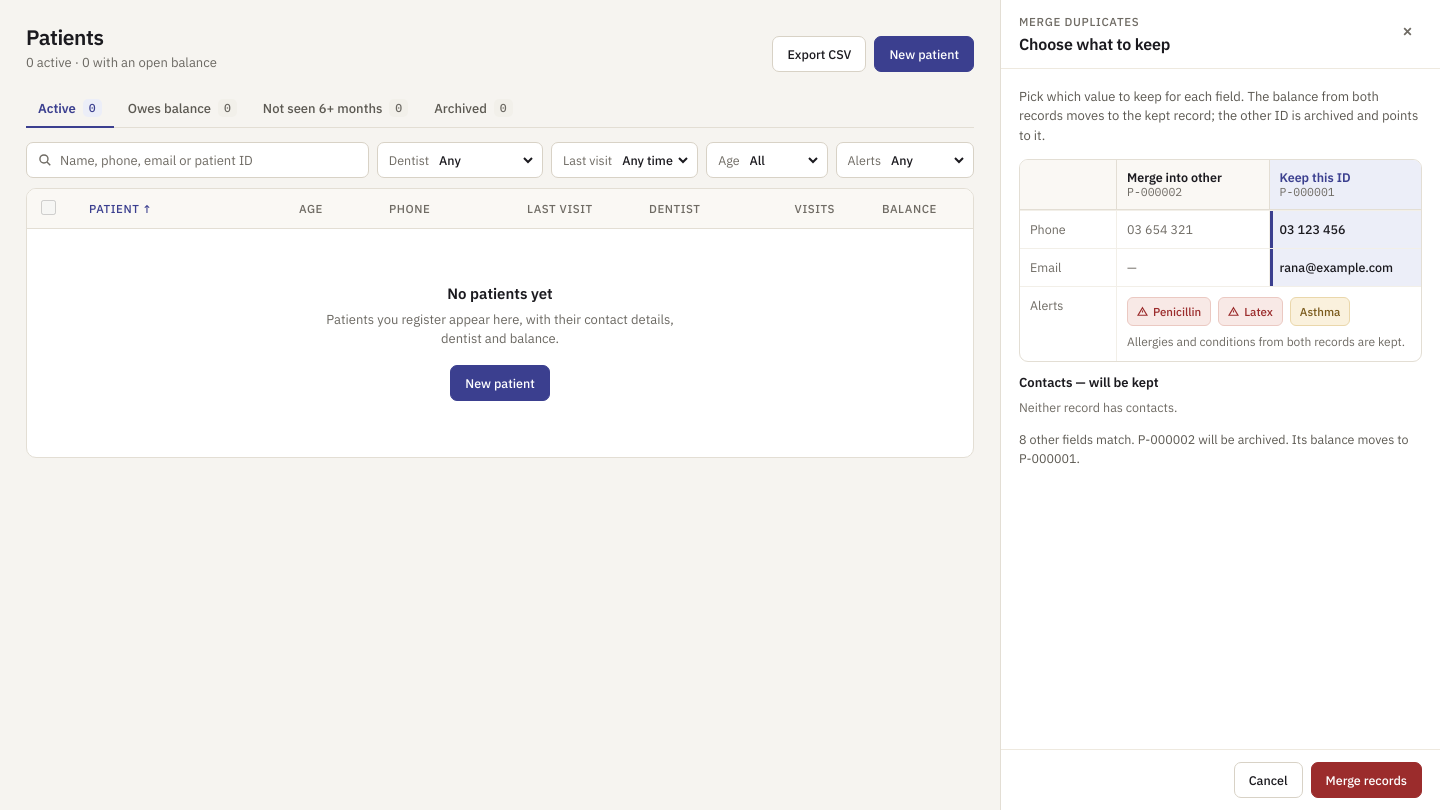
Test: MergePanel › sends the picked values, and needs a reason of at least 3 characters
Click the radio button named "Phone from P-000002: 03 654 321" at (1192,230), box [1116, 211, 1268, 248]
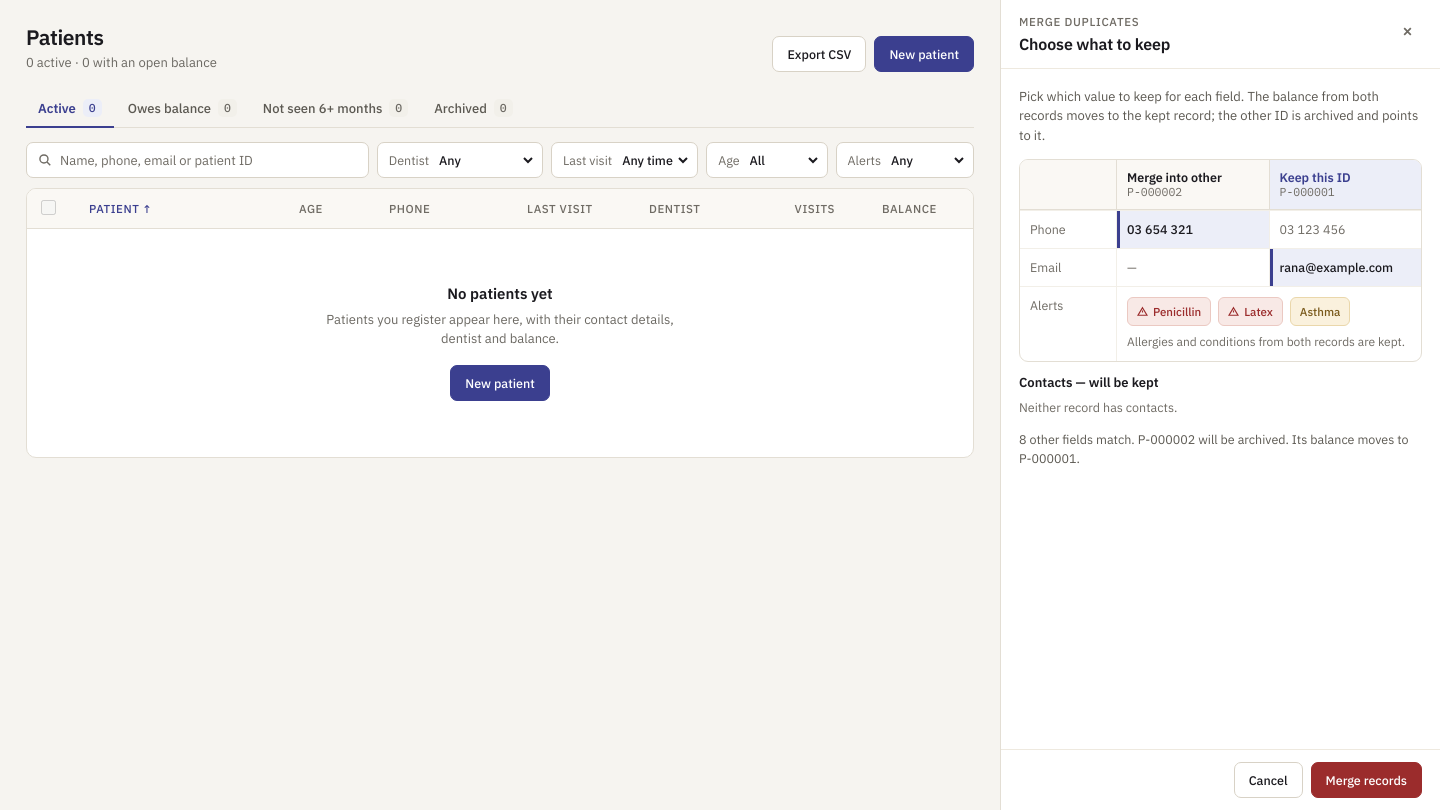
Expected: the radio button named "Phone from P-000002: 03 654 321" is checked, [1116, 211, 1268, 248]
Expected: the radio button named "Phone from P-000001: 03 123 456" is not checked, [1268, 211, 1421, 248]
Click the button "Merge records" at (1366,780), box [1310, 762, 1422, 798]
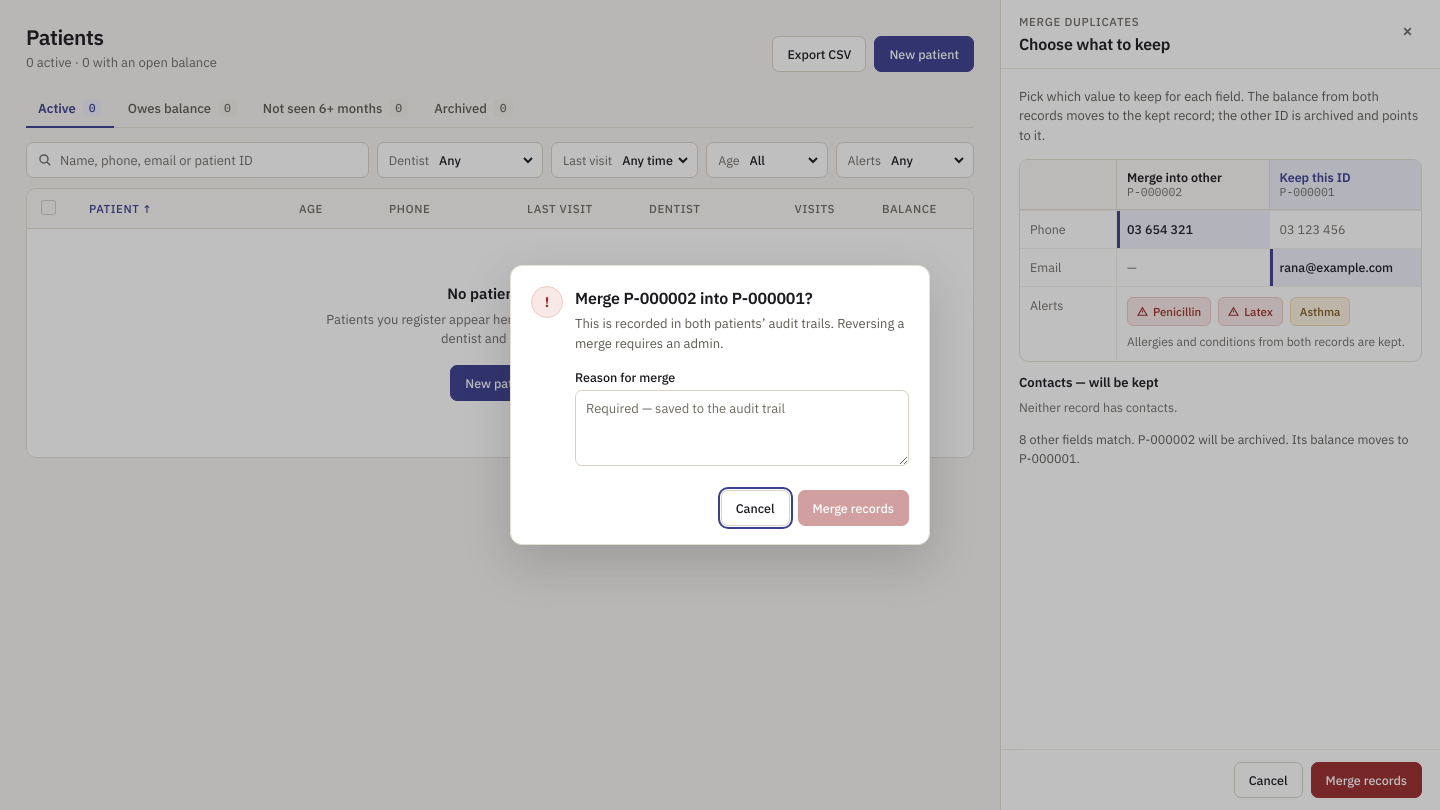
Expected: the heading "Merge P-000002 into P-000001?" is shown, [575, 288, 812, 308]
Type "ab" into the text box at (742,428), box [575, 390, 909, 466]
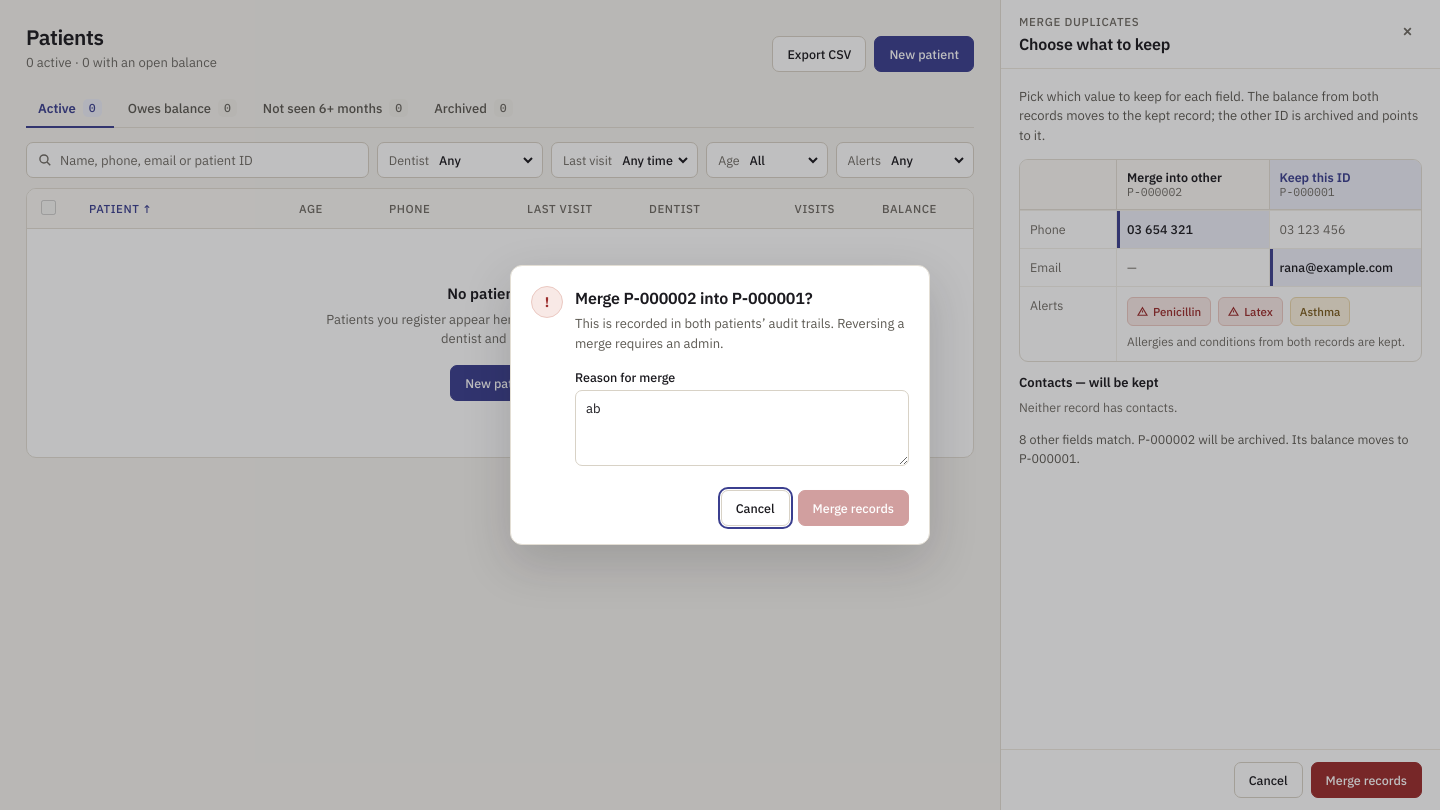
Expected: the button "Merge records" is disabled, [798, 490, 909, 526]
Replace the text in the text box with "Same person" at (742,428), box [575, 390, 909, 466]
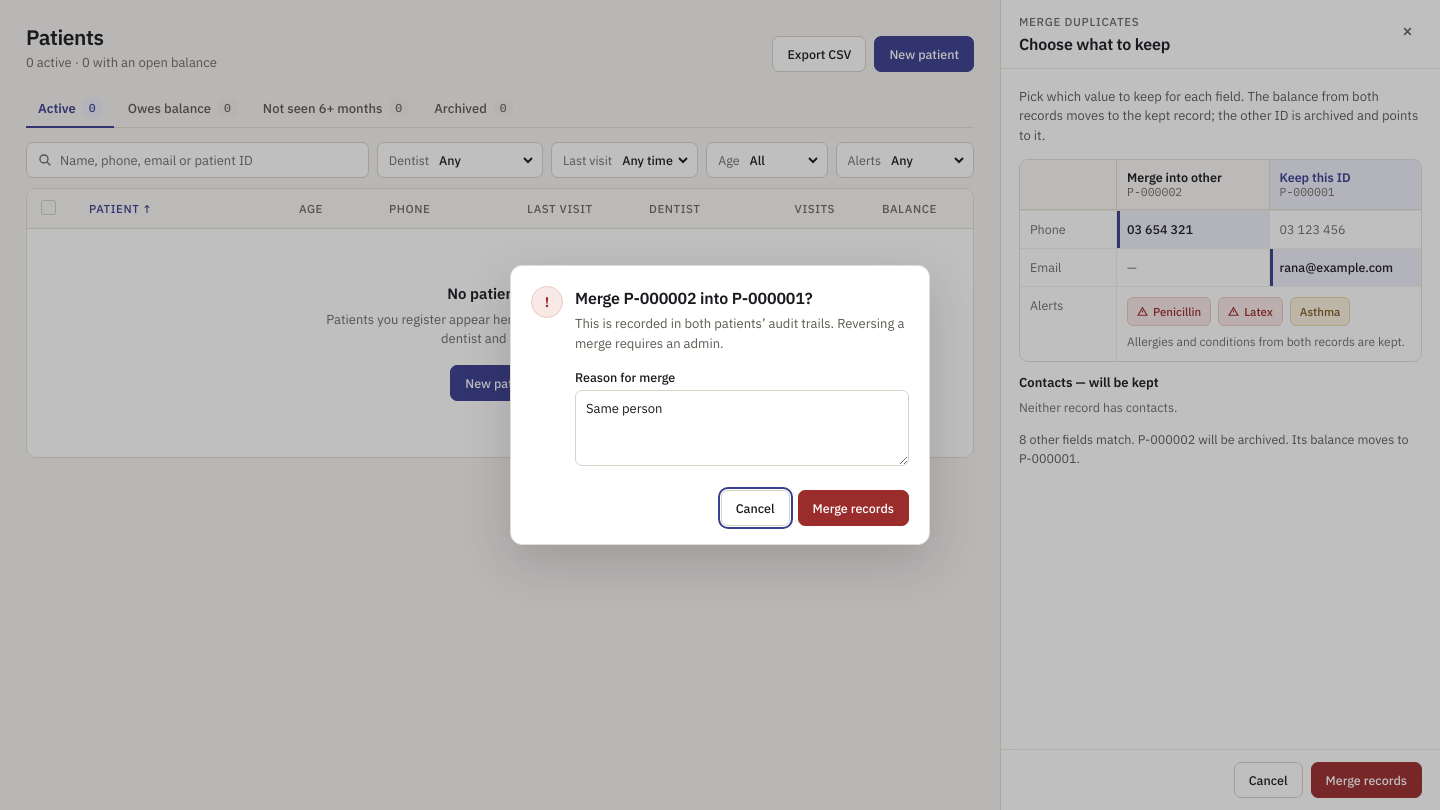
Expected: the button "Merge records" is enabled
Click the button "Merge records" at (853,508), box [798, 490, 909, 526]
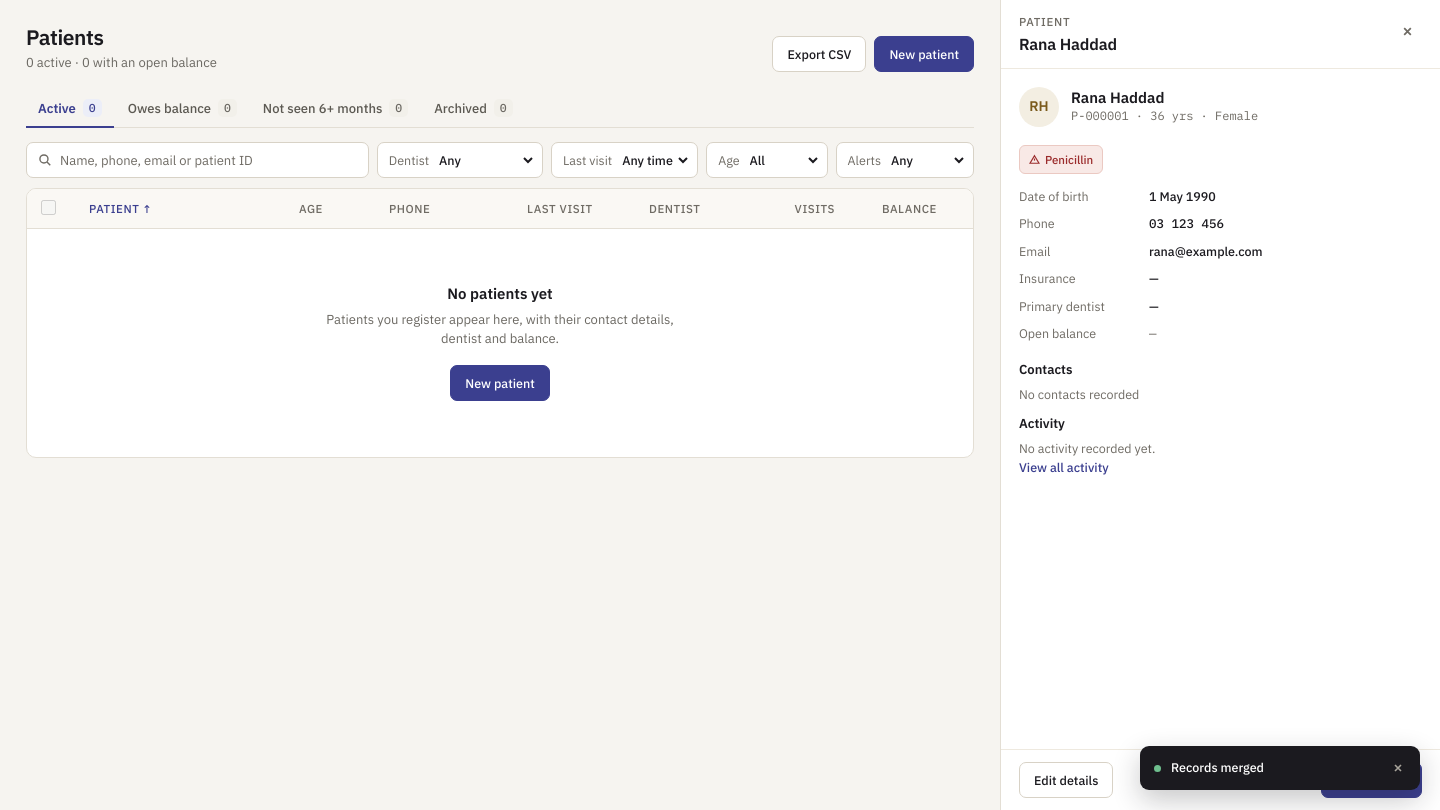
Expected: the text "Records merged" is shown, [1171, 759, 1264, 775]
